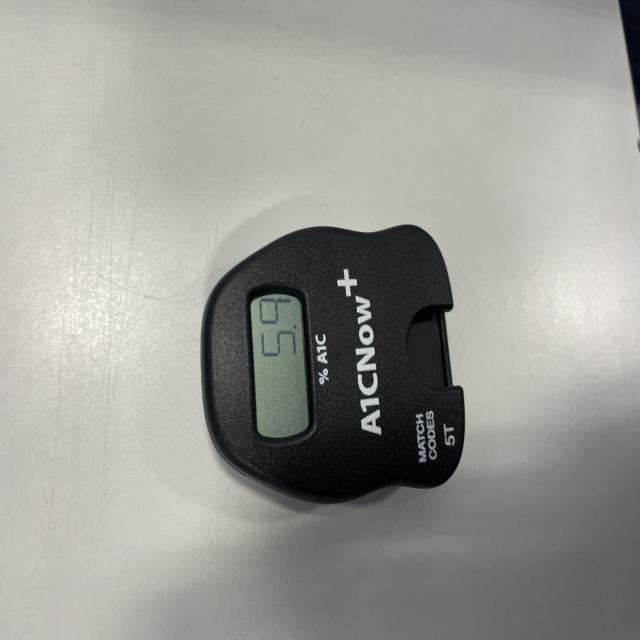hba1c: (199, 225, 466, 506)
